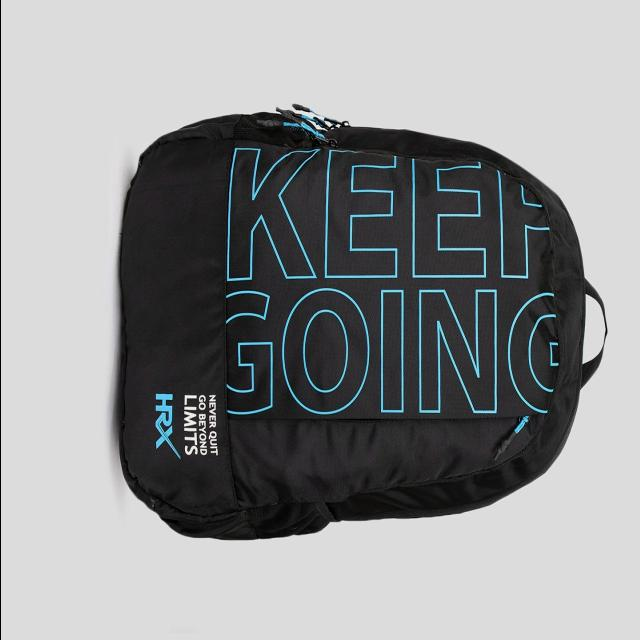backpack: (119, 106, 609, 542)
